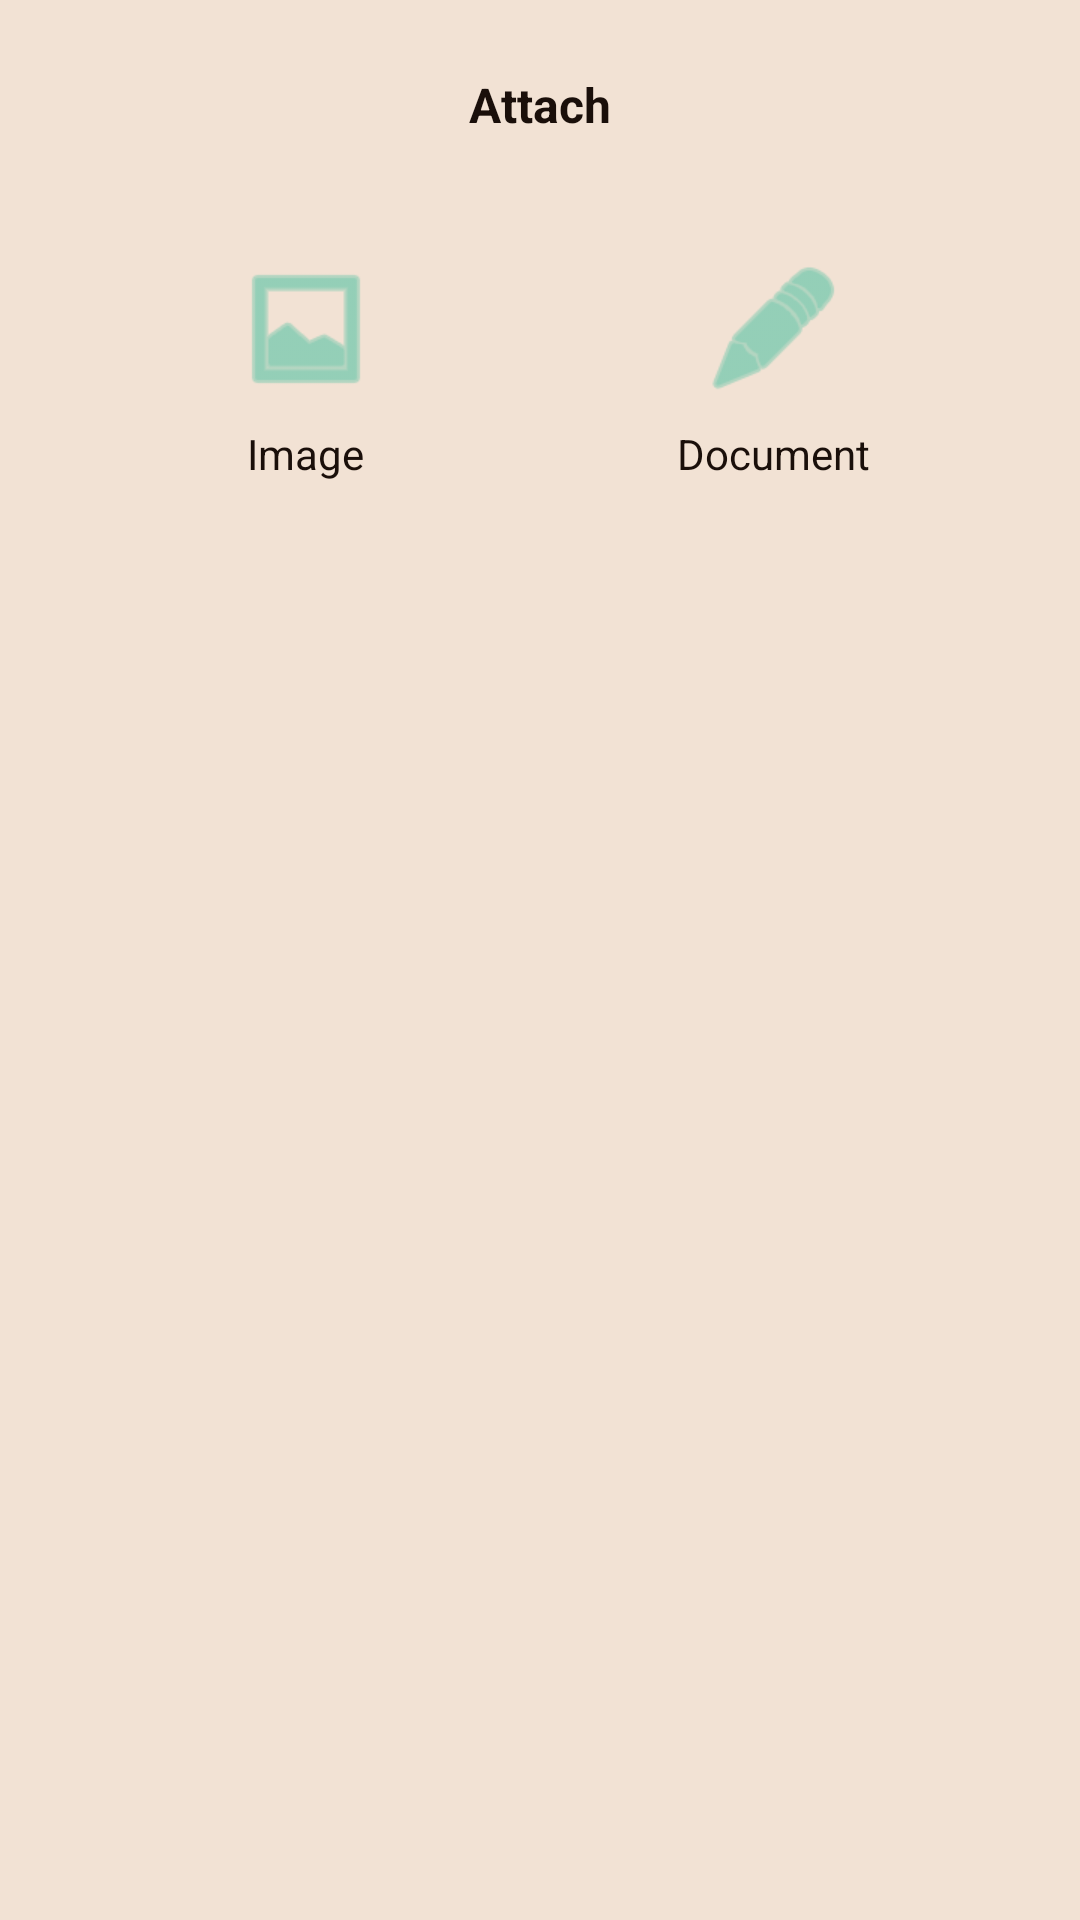

Point at icon controls on the screen. Image size 1080x1920, points as (x=x, y=y).
gallery: (x=306, y=329)
